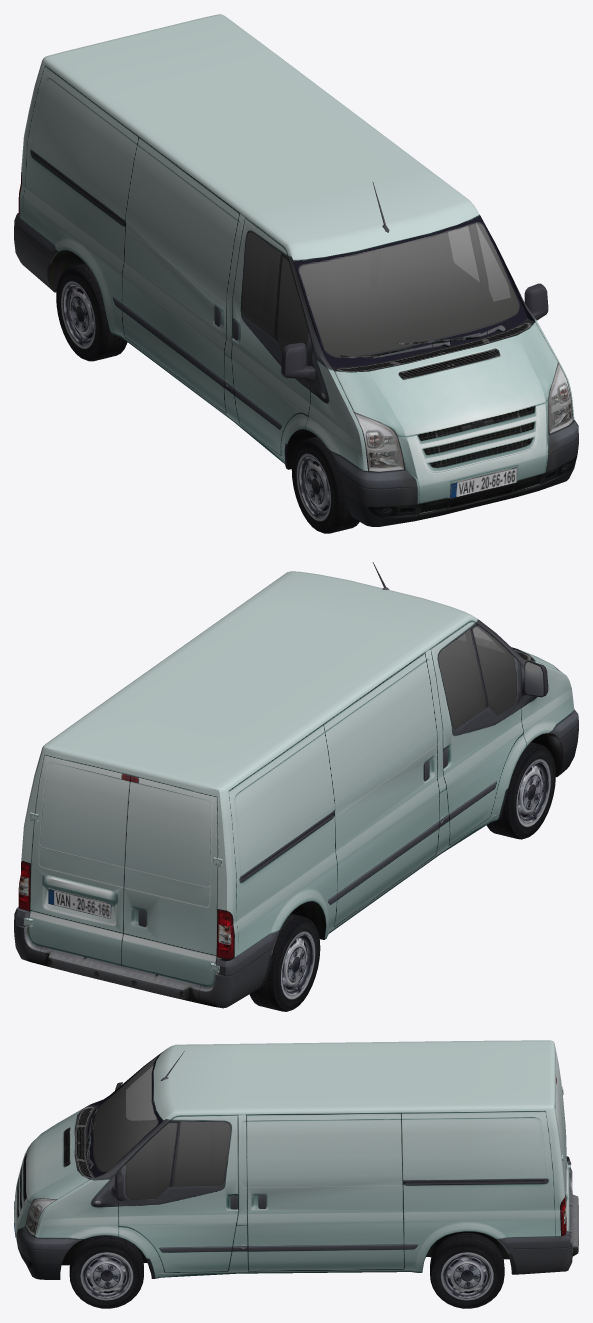
Rendered from van_teal.glb.
3 views of the same model, one above another, from view 1: azimuth 30°, elevation 25°; view 2: azimuth 150°, elevation 25°; view 3: azimuth 270°, elevation 25° (orthographic). The views are drawn at different scales.
Parts seen in each view (by area): view 1: van03_, van03_gla_, van03_wheel04_, van03_wheel02_; view 2: van03_, van03_gla_, van03_wheel04_, van03_wheel02_; view 3: van03_, van03_gla_, van03_wheel03_, van03_wheel01_.
Part boxes in pixels (<box>): van03_: <box>14,14,578,526</box>; van03_gla_: <box>241,223,519,357</box>; van03_wheel04_: <box>56,263,127,361</box>; van03_wheel02_: <box>291,436,359,533</box>; van03_: <box>14,562,578,1008</box>; van03_gla_: <box>438,625,517,729</box>; van03_wheel04_: <box>249,913,320,1011</box>; van03_wheel02_: <box>486,742,555,839</box>; van03_: <box>14,1040,578,1279</box>; van03_gla_: <box>93,1056,230,1199</box>; van03_wheel03_: <box>430,1233,504,1308</box>; van03_wheel01_: <box>69,1235,143,1308</box>.
Bounding box in the file's own units: 2.19 × 2.25 × 5.29.
3 materials, 3 textured.
